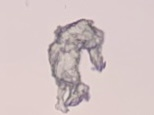microplastic: (47, 18, 107, 115)
